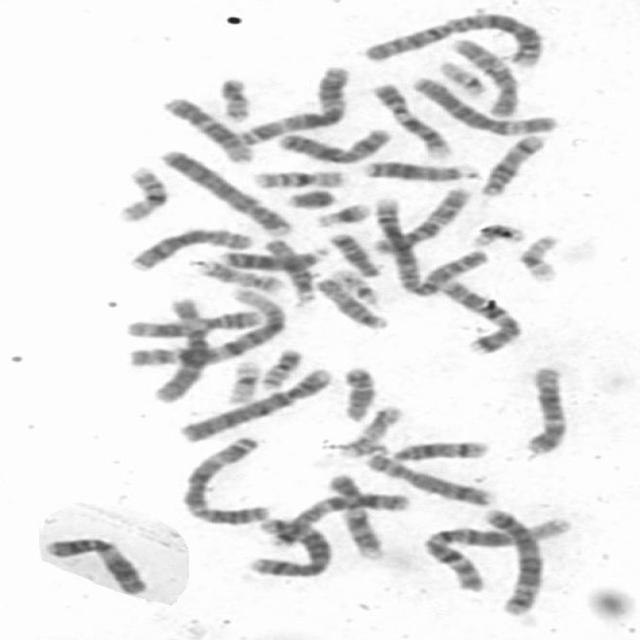A1: (122, 284, 290, 368), (416, 512, 575, 593)
A2: (368, 190, 492, 298), (359, 8, 552, 68)
A3: (231, 60, 356, 146), (176, 431, 276, 526)
B4: (152, 144, 296, 238), (174, 363, 338, 444)
B5: (475, 503, 548, 617), (239, 511, 336, 579)
C10: (369, 183, 475, 255), (445, 32, 524, 118)
C11: (35, 531, 150, 597), (122, 306, 264, 339)
C12: (157, 92, 258, 164), (518, 362, 572, 456)
C6: (404, 72, 559, 136), (146, 292, 215, 405)
C7: (259, 487, 413, 549), (432, 274, 529, 357)
C8: (360, 449, 500, 506), (121, 222, 258, 273)
C9: (366, 78, 454, 160), (320, 468, 388, 562)
D13: (356, 155, 482, 183), (218, 242, 332, 271)
D14: (477, 129, 551, 197), (385, 435, 494, 463)
D15: (311, 272, 394, 330), (258, 234, 319, 303)
E16: (110, 161, 172, 223), (246, 165, 350, 190)
E17: (335, 400, 406, 459), (189, 255, 285, 295)
E18: (323, 228, 385, 278), (336, 362, 379, 422)
F19: (513, 229, 567, 285), (220, 356, 265, 404)
F20: (255, 342, 308, 390), (213, 73, 256, 123)
G21: (311, 198, 374, 228), (466, 220, 528, 248)
G22: (432, 55, 493, 97), (327, 266, 382, 306)
X: (272, 124, 396, 165)
Y: (280, 185, 338, 210)
